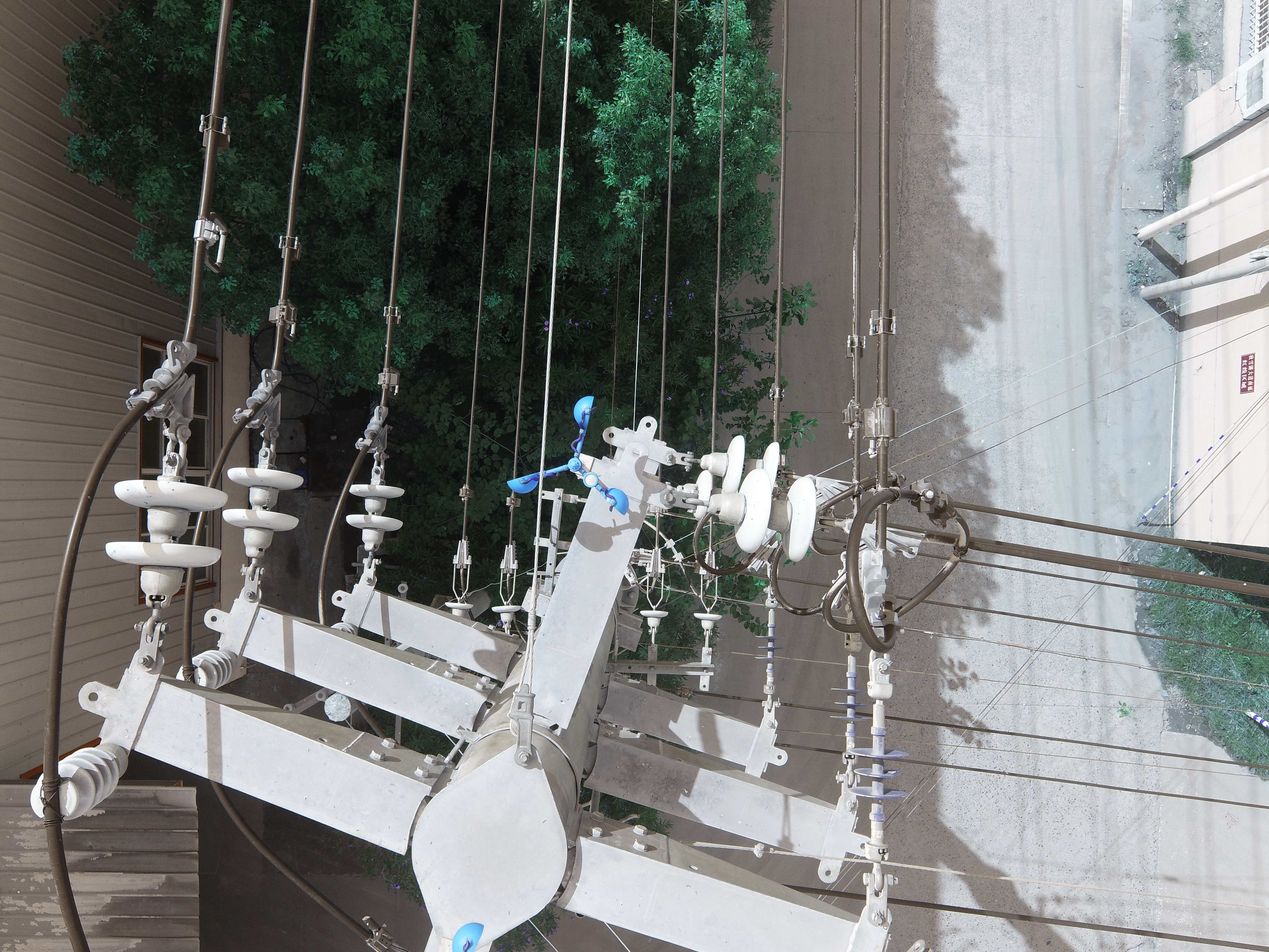severe_soiling_no_discharge_whole: (27, 738, 130, 825), (174, 646, 241, 690)
